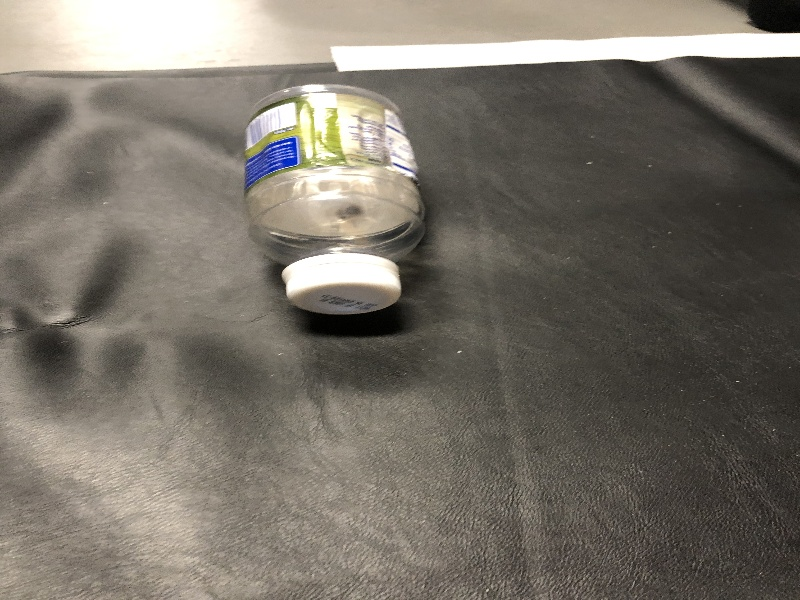plastic: (231, 77, 450, 326)
